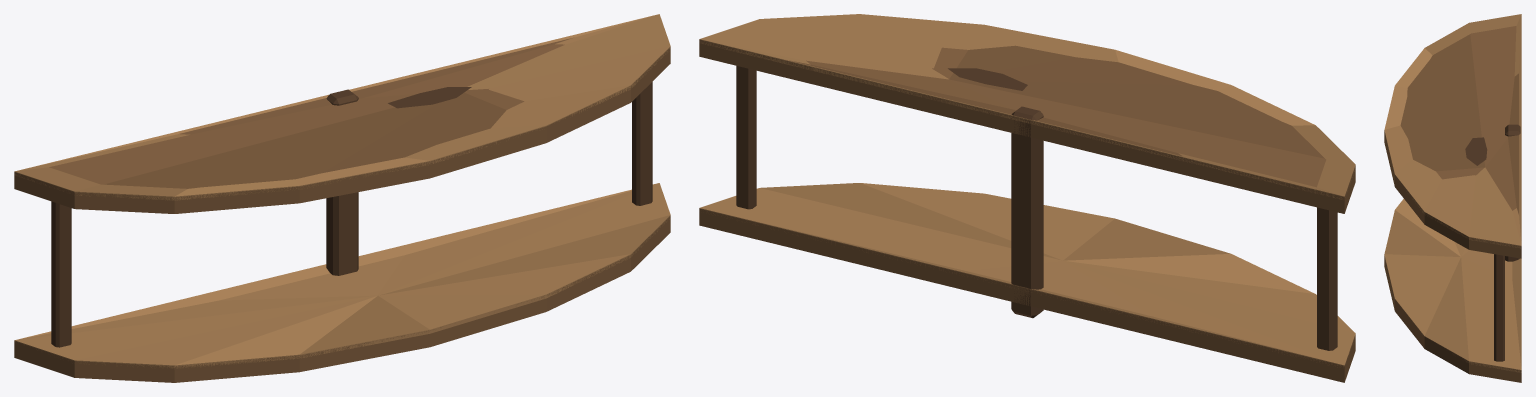
The model's file is shelf_wood_uglovaya_idle.glb.
3 renders of one model, left to right at view 1: azimuth 30°, elevation 25°; view 2: azimuth 150°, elevation 25°; view 3: azimuth 270°, elevation 25°, orthographic. The views are drawn at different scales.
Parts seen in each view (by area): view 1: shelf_wood_uglovaya_idle; view 2: shelf_wood_uglovaya_idle; view 3: shelf_wood_uglovaya_idle.
Part boxes in pixels (x1,y1,x2,y2): shelf_wood_uglovaya_idle: (14,14,670,382); shelf_wood_uglovaya_idle: (699,14,1355,382); shelf_wood_uglovaya_idle: (1384,14,1521,382).
Bounding box in the file's own units: 1 × 0.3 × 0.25.
Materials: 1 (1 with a texture image).
